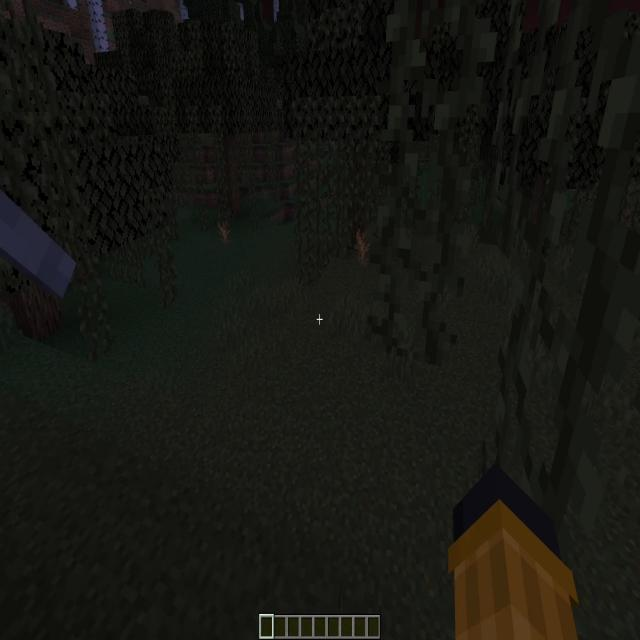Skeleton: (0, 194, 74, 295)
